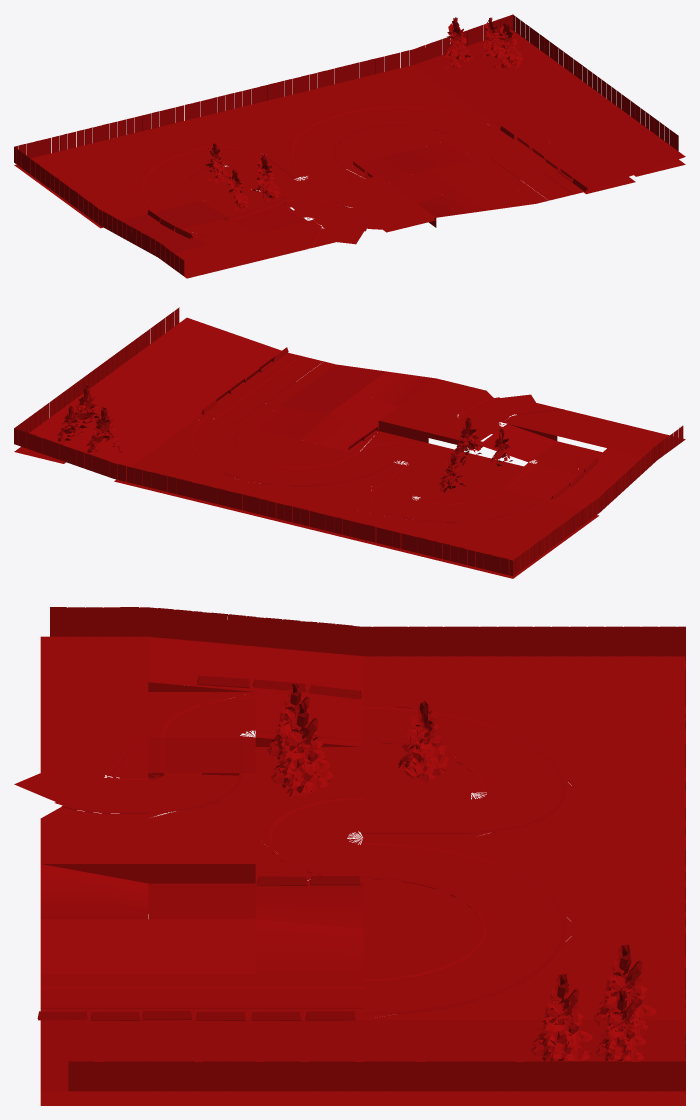
The picture shows the model from 3 angles, top to bottom: view 1: azimuth 30°, elevation 25°; view 2: azimuth 150°, elevation 25°; view 3: azimuth 270°, elevation 25°; orthographic projection. The views are drawn at different scales.
Parts seen in each view (by area): view 1: map2.001; view 2: map2.001; view 3: map2.001.
Boxes of the visible parts, box(x1,y1,x2,y2) form: map2.001: box(14, 14, 685, 278); map2.001: box(14, 307, 685, 578); map2.001: box(14, 607, 685, 1105).
Size of the model in its own units: 646 by 70.77 by 404.
